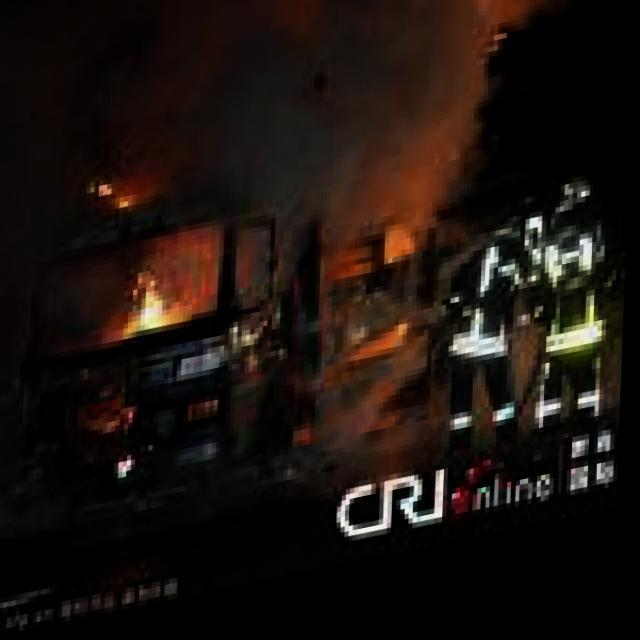Fire: (84, 158, 200, 358)
